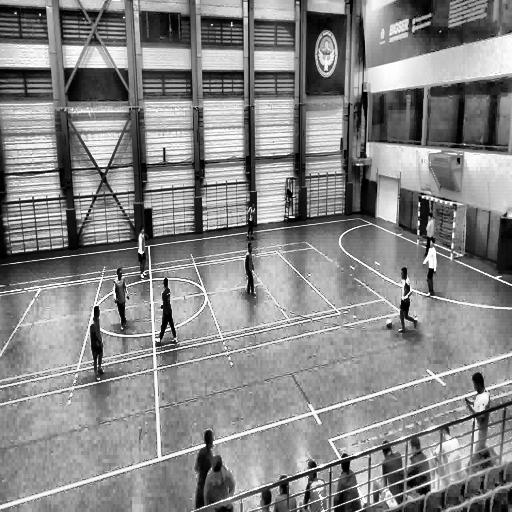ball: (386, 317, 393, 329)
player: (465, 373, 490, 450), (156, 277, 178, 343), (399, 266, 418, 334), (89, 305, 105, 381), (113, 268, 129, 330), (423, 237, 437, 297), (424, 212, 438, 262), (245, 240, 256, 297), (137, 226, 147, 278), (246, 200, 256, 239)
